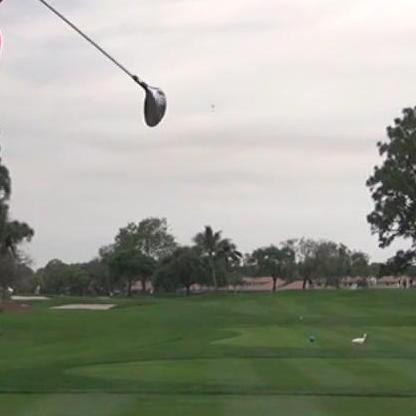golfball: (207, 100, 216, 108)
